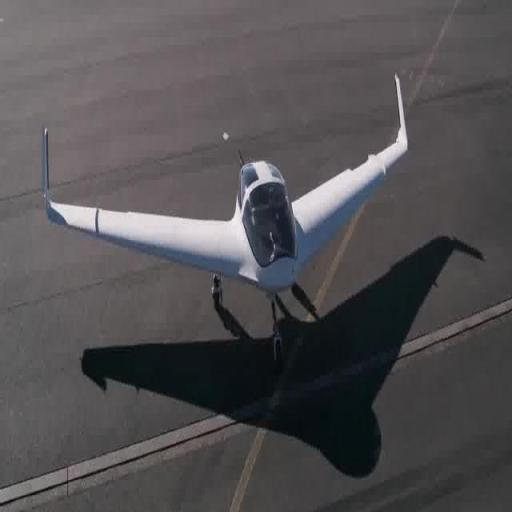uav: (36, 56, 412, 382)
